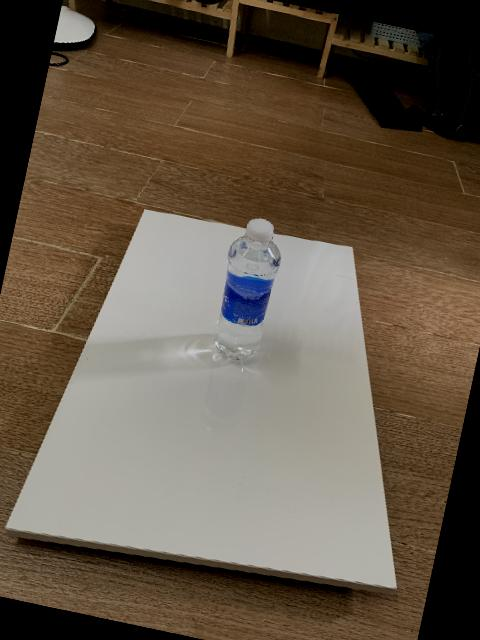aquafina: (214, 218, 281, 361)
